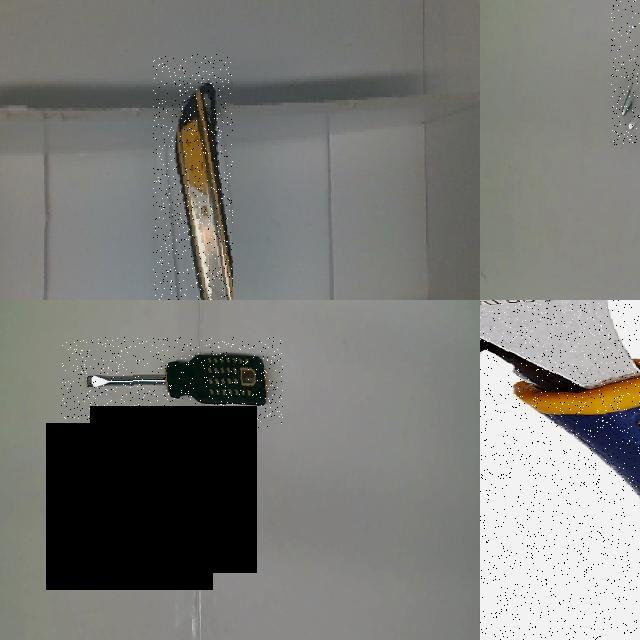estilete: (176, 84, 232, 299)
